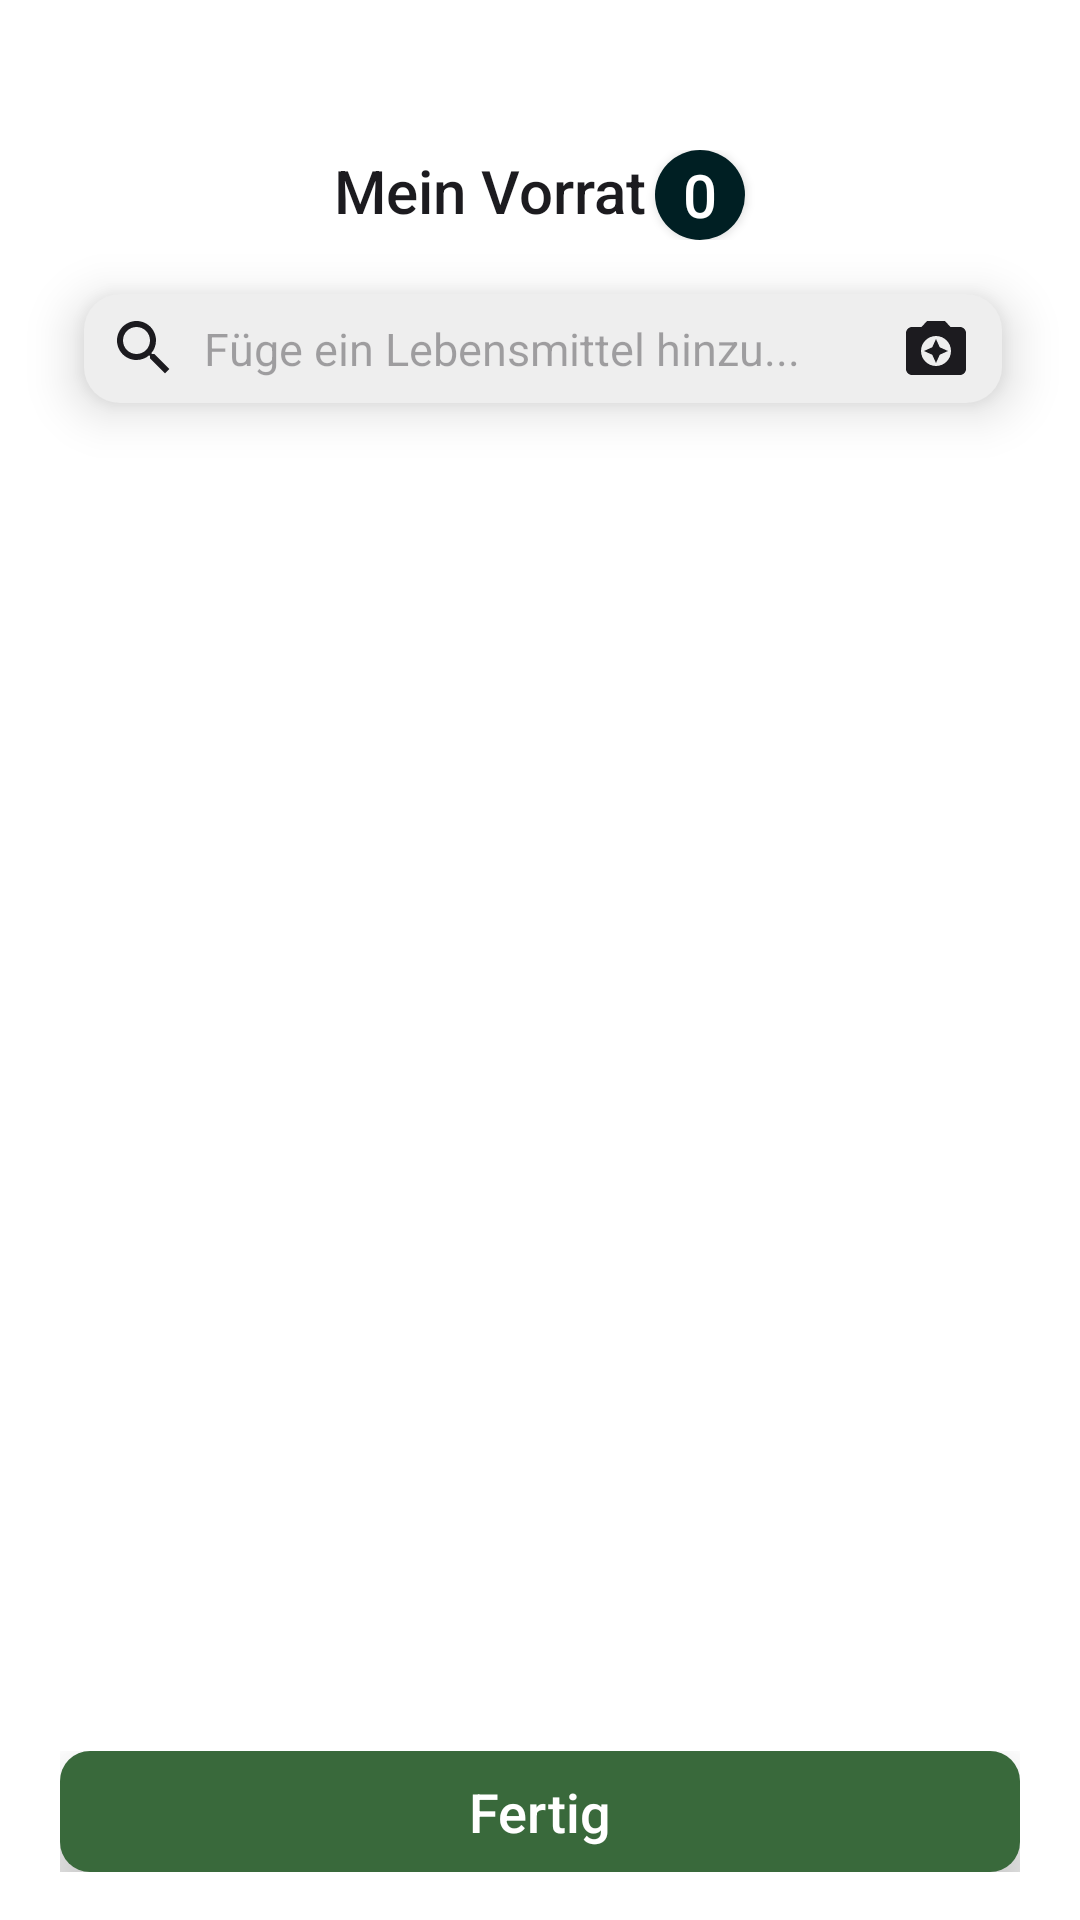

Point at icon controls on the screen. Image size 1080px x 1920px, points as [x,y].
Camera Icon: [936,348]
Search Icon: [143,347]
